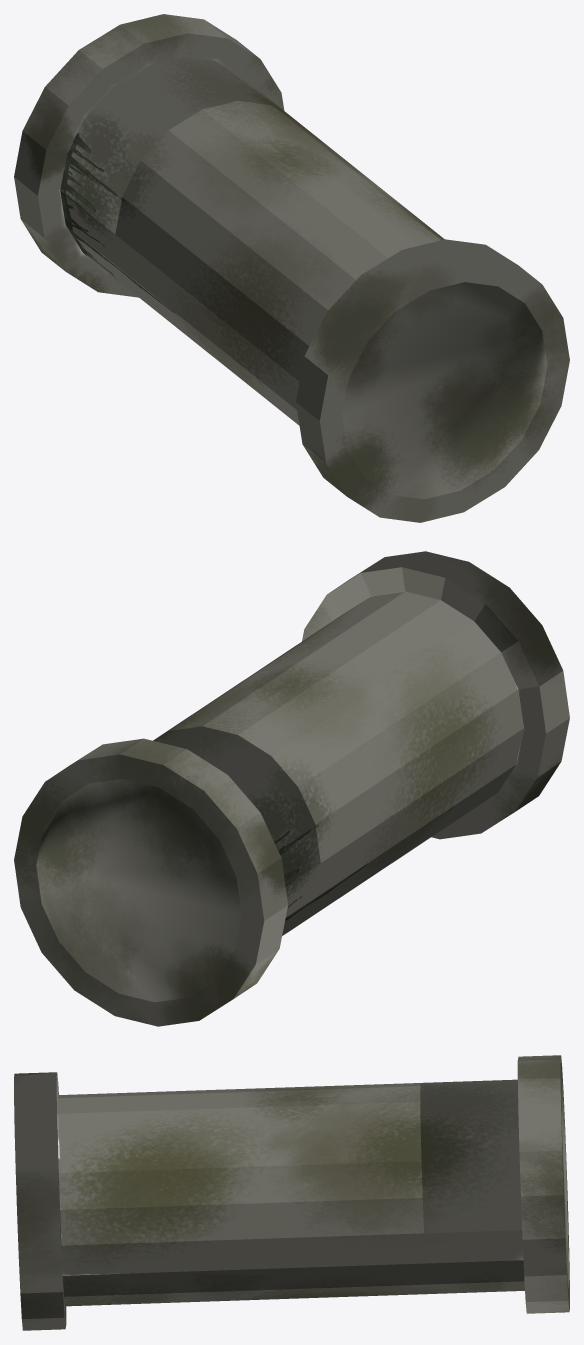
Rendered from Pijp.fbx.
The picture shows the model from 3 angles, top to bottom: view 1: azimuth 30°, elevation 25°; view 2: azimuth 150°, elevation 25°; view 3: azimuth 270°, elevation 25°; orthographic projection. The views are drawn at different scales.
Visible parts, largest first — view 1: Cylinder001; view 2: Cylinder001; view 3: Cylinder001.
Boxes of the visible parts, bbox=[...] form: Cylinder001: bbox=[14, 14, 569, 522]; Cylinder001: bbox=[14, 551, 569, 1026]; Cylinder001: bbox=[14, 1055, 569, 1330].
Size of the model in its own units: 6085 by 6467 by 13099.
Materials: 1 (1 with a texture image).
